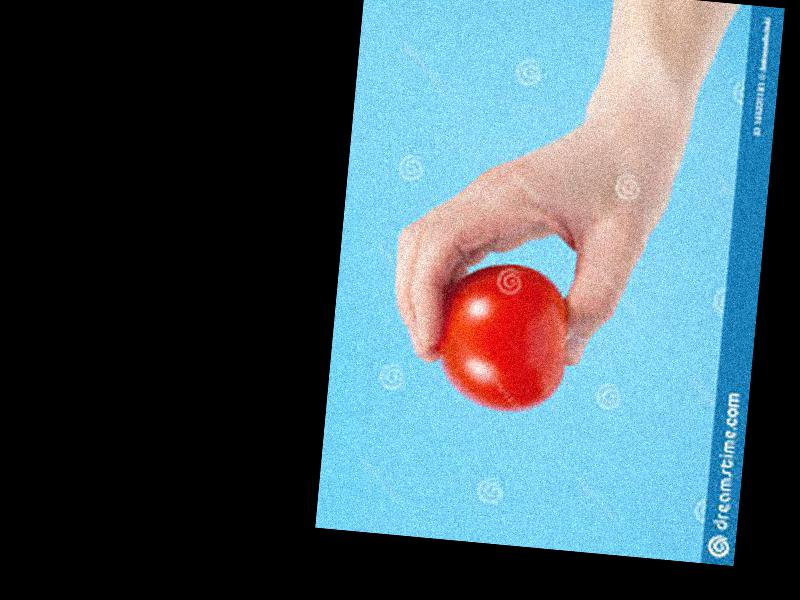Tomato: (430, 260, 573, 415)
